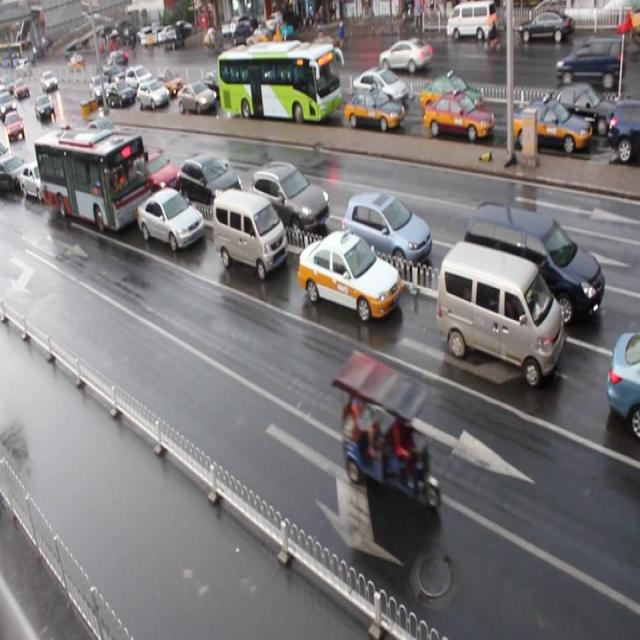car: (298, 228, 401, 322), (342, 192, 432, 276), (250, 161, 330, 234), (513, 98, 592, 156), (536, 84, 620, 138), (137, 186, 205, 251), (178, 151, 244, 213), (606, 329, 640, 435), (424, 92, 494, 140), (344, 85, 404, 133), (427, 74, 490, 118), (351, 68, 407, 107), (606, 97, 640, 159), (138, 147, 181, 194), (21, 157, 58, 202), (84, 118, 128, 155), (84, 132, 122, 171), (280, 67, 320, 102), (178, 81, 218, 116), (1, 152, 30, 194), (138, 79, 168, 111), (155, 70, 184, 98), (201, 70, 229, 98), (106, 80, 133, 106), (126, 64, 153, 89)
truck: (437, 240, 562, 388), (464, 199, 604, 328), (212, 187, 288, 278)
van: (35, 126, 154, 234), (216, 43, 340, 123)
